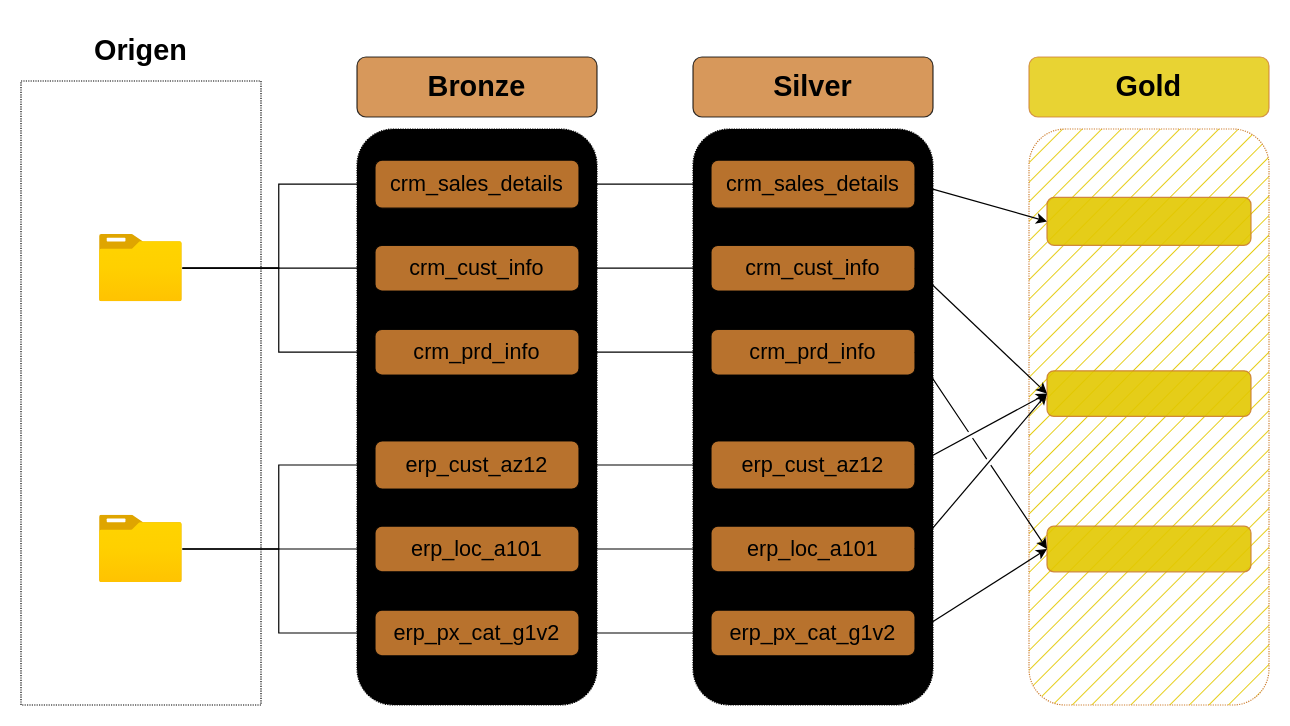
This 1290x726 diagram has some shape labels left out. The shapes that lost their labels are listed below. From the top down, each one's box as (x1, y1, x2, y2) in pixels, then its label:
(1046, 196, 1251, 245): fact_sales
(99, 234, 182, 301): CRM
(1046, 370, 1251, 416): dim_customer
(99, 515, 182, 582): ERP
(1046, 525, 1251, 572): dim_products
